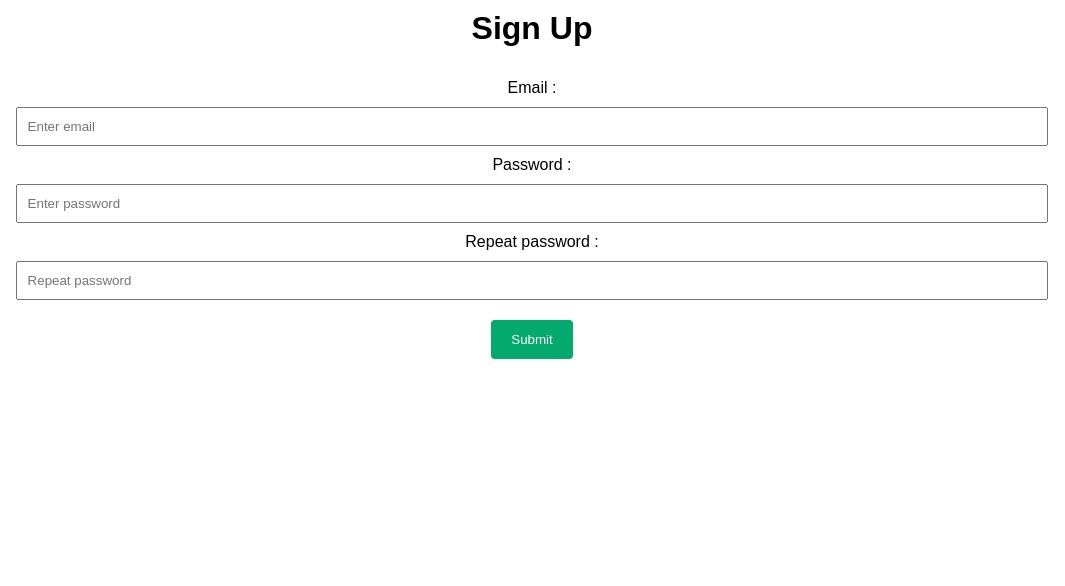
Test case: Signup › should display an error message when a field is missing
The image size is (1065, 586).
Click the button with test id "submit" at (532, 339), box [491,320,573,359]
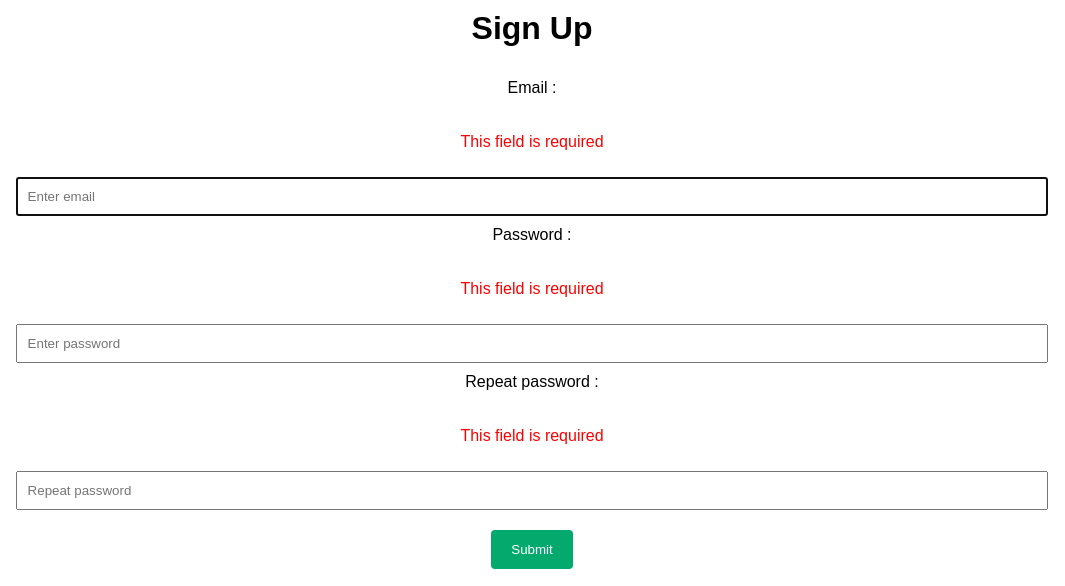
Result: the text with test id "error-email" is shown at [460,133,604,150]
Result: the text with test id "error-pwd" is shown at [460,280,604,297]
Result: the text with test id "error-repeat-pwd" is shown at [460,427,604,444]
